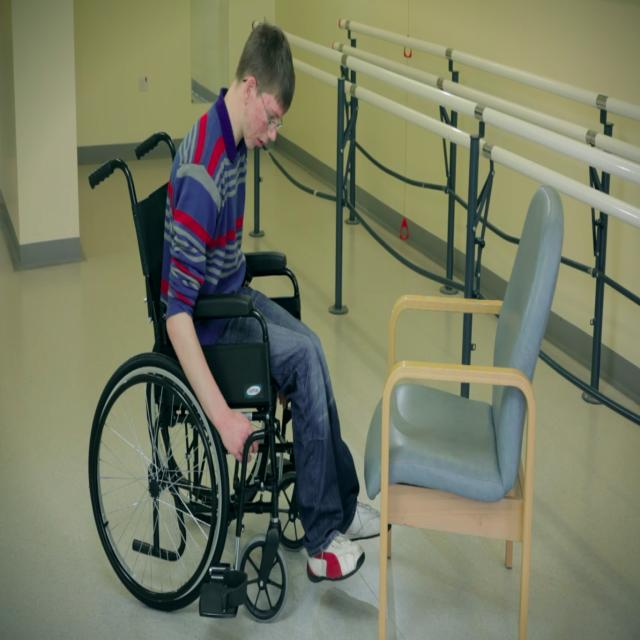wheelchairs: (85, 116, 329, 612)
